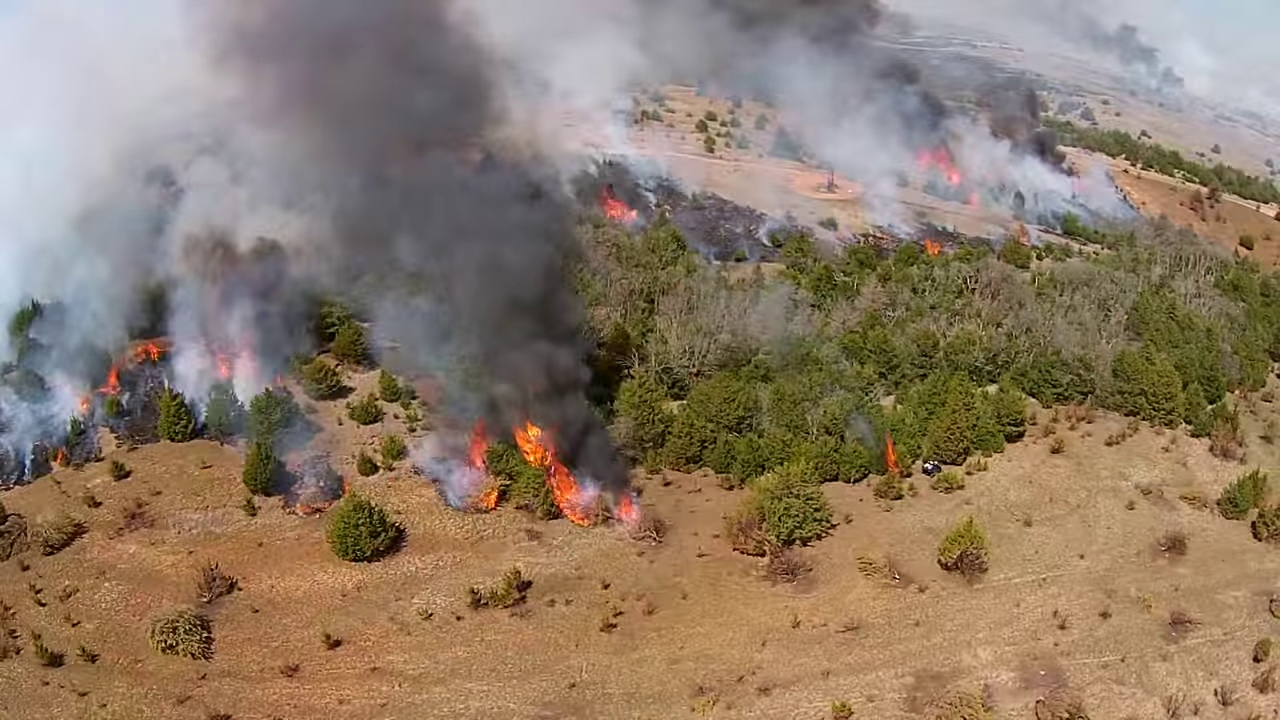forest_fire: (513, 421, 591, 523), (600, 186, 637, 220), (884, 431, 901, 476), (133, 340, 164, 361), (102, 365, 120, 394), (616, 496, 637, 520), (923, 238, 942, 255), (481, 490, 496, 508)
